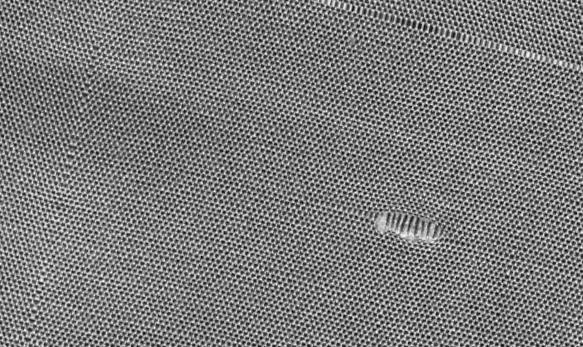slub: (369, 208, 446, 246)
